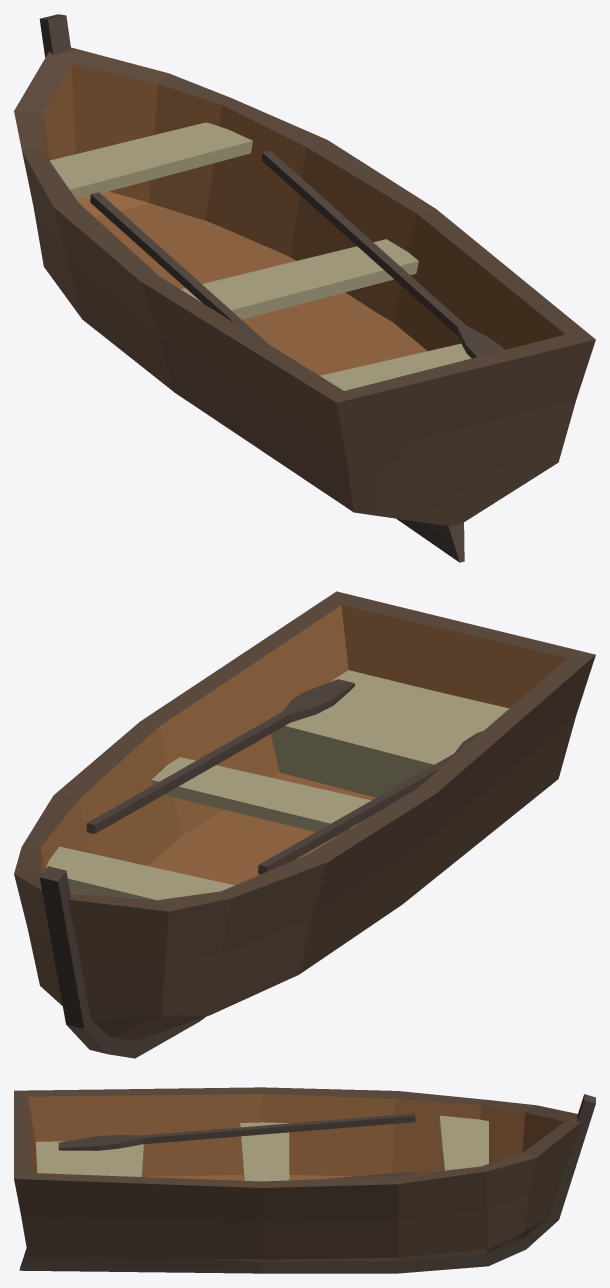
The model's file is boatgg.obj.
3 views of the same model, one above another, from view 1: azimuth 30°, elevation 25°; view 2: azimuth 150°, elevation 25°; view 3: azimuth 270°, elevation 25° (orthographic). The views are drawn at different scales.
Visible parts, largest first — view 1: Boat; view 2: Boat; view 3: Boat.
Boxes of the visible parts, box(x1,y1,x2,y2) form: Boat: box(14, 14, 595, 562); Boat: box(14, 591, 595, 1058); Boat: box(14, 1087, 595, 1273).
Size of the model in its own units: 20.07 by 16.12 by 49.05.
Materials: 1 (1 with a texture image).
